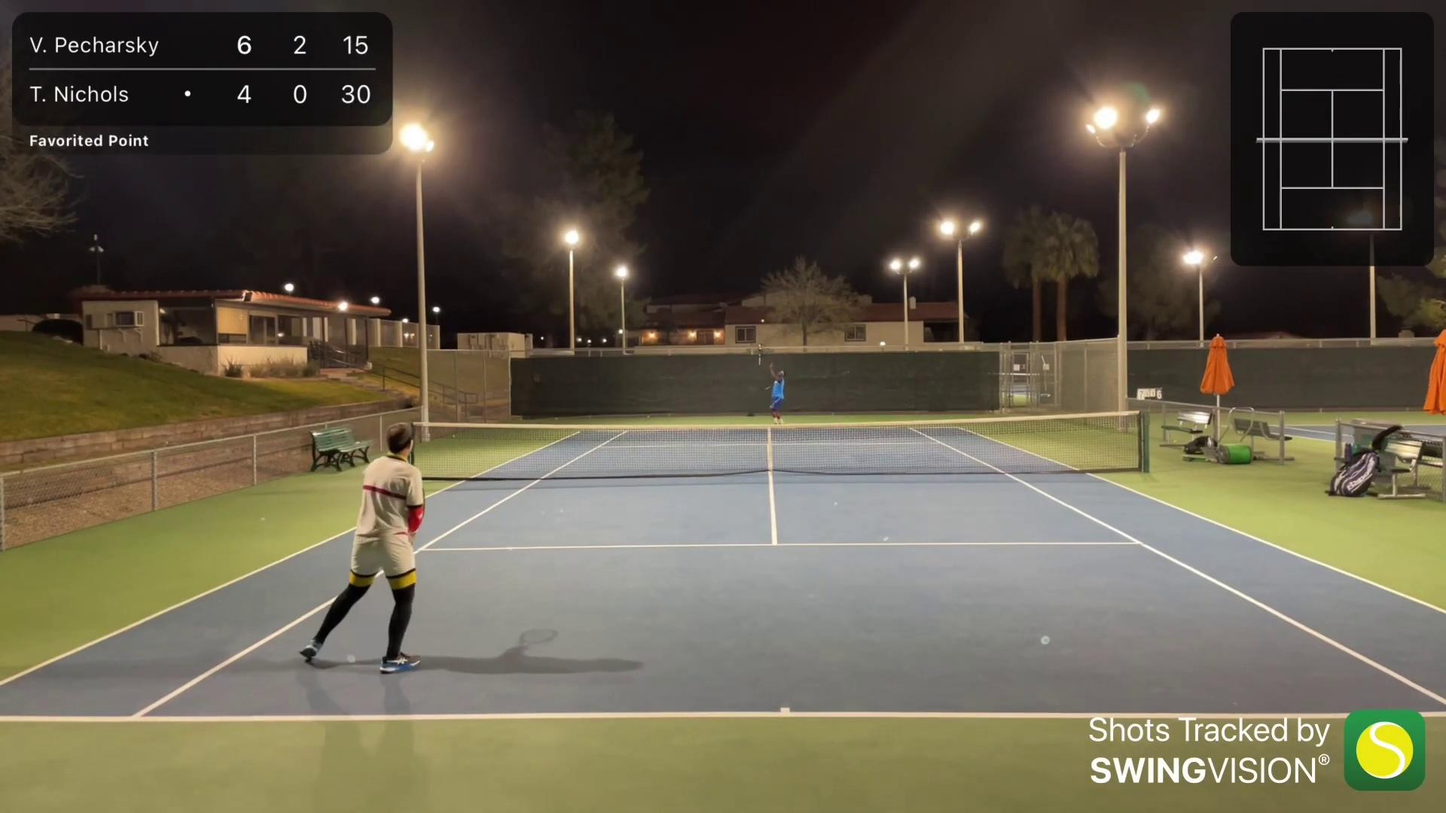ball: (760, 318, 765, 323)
